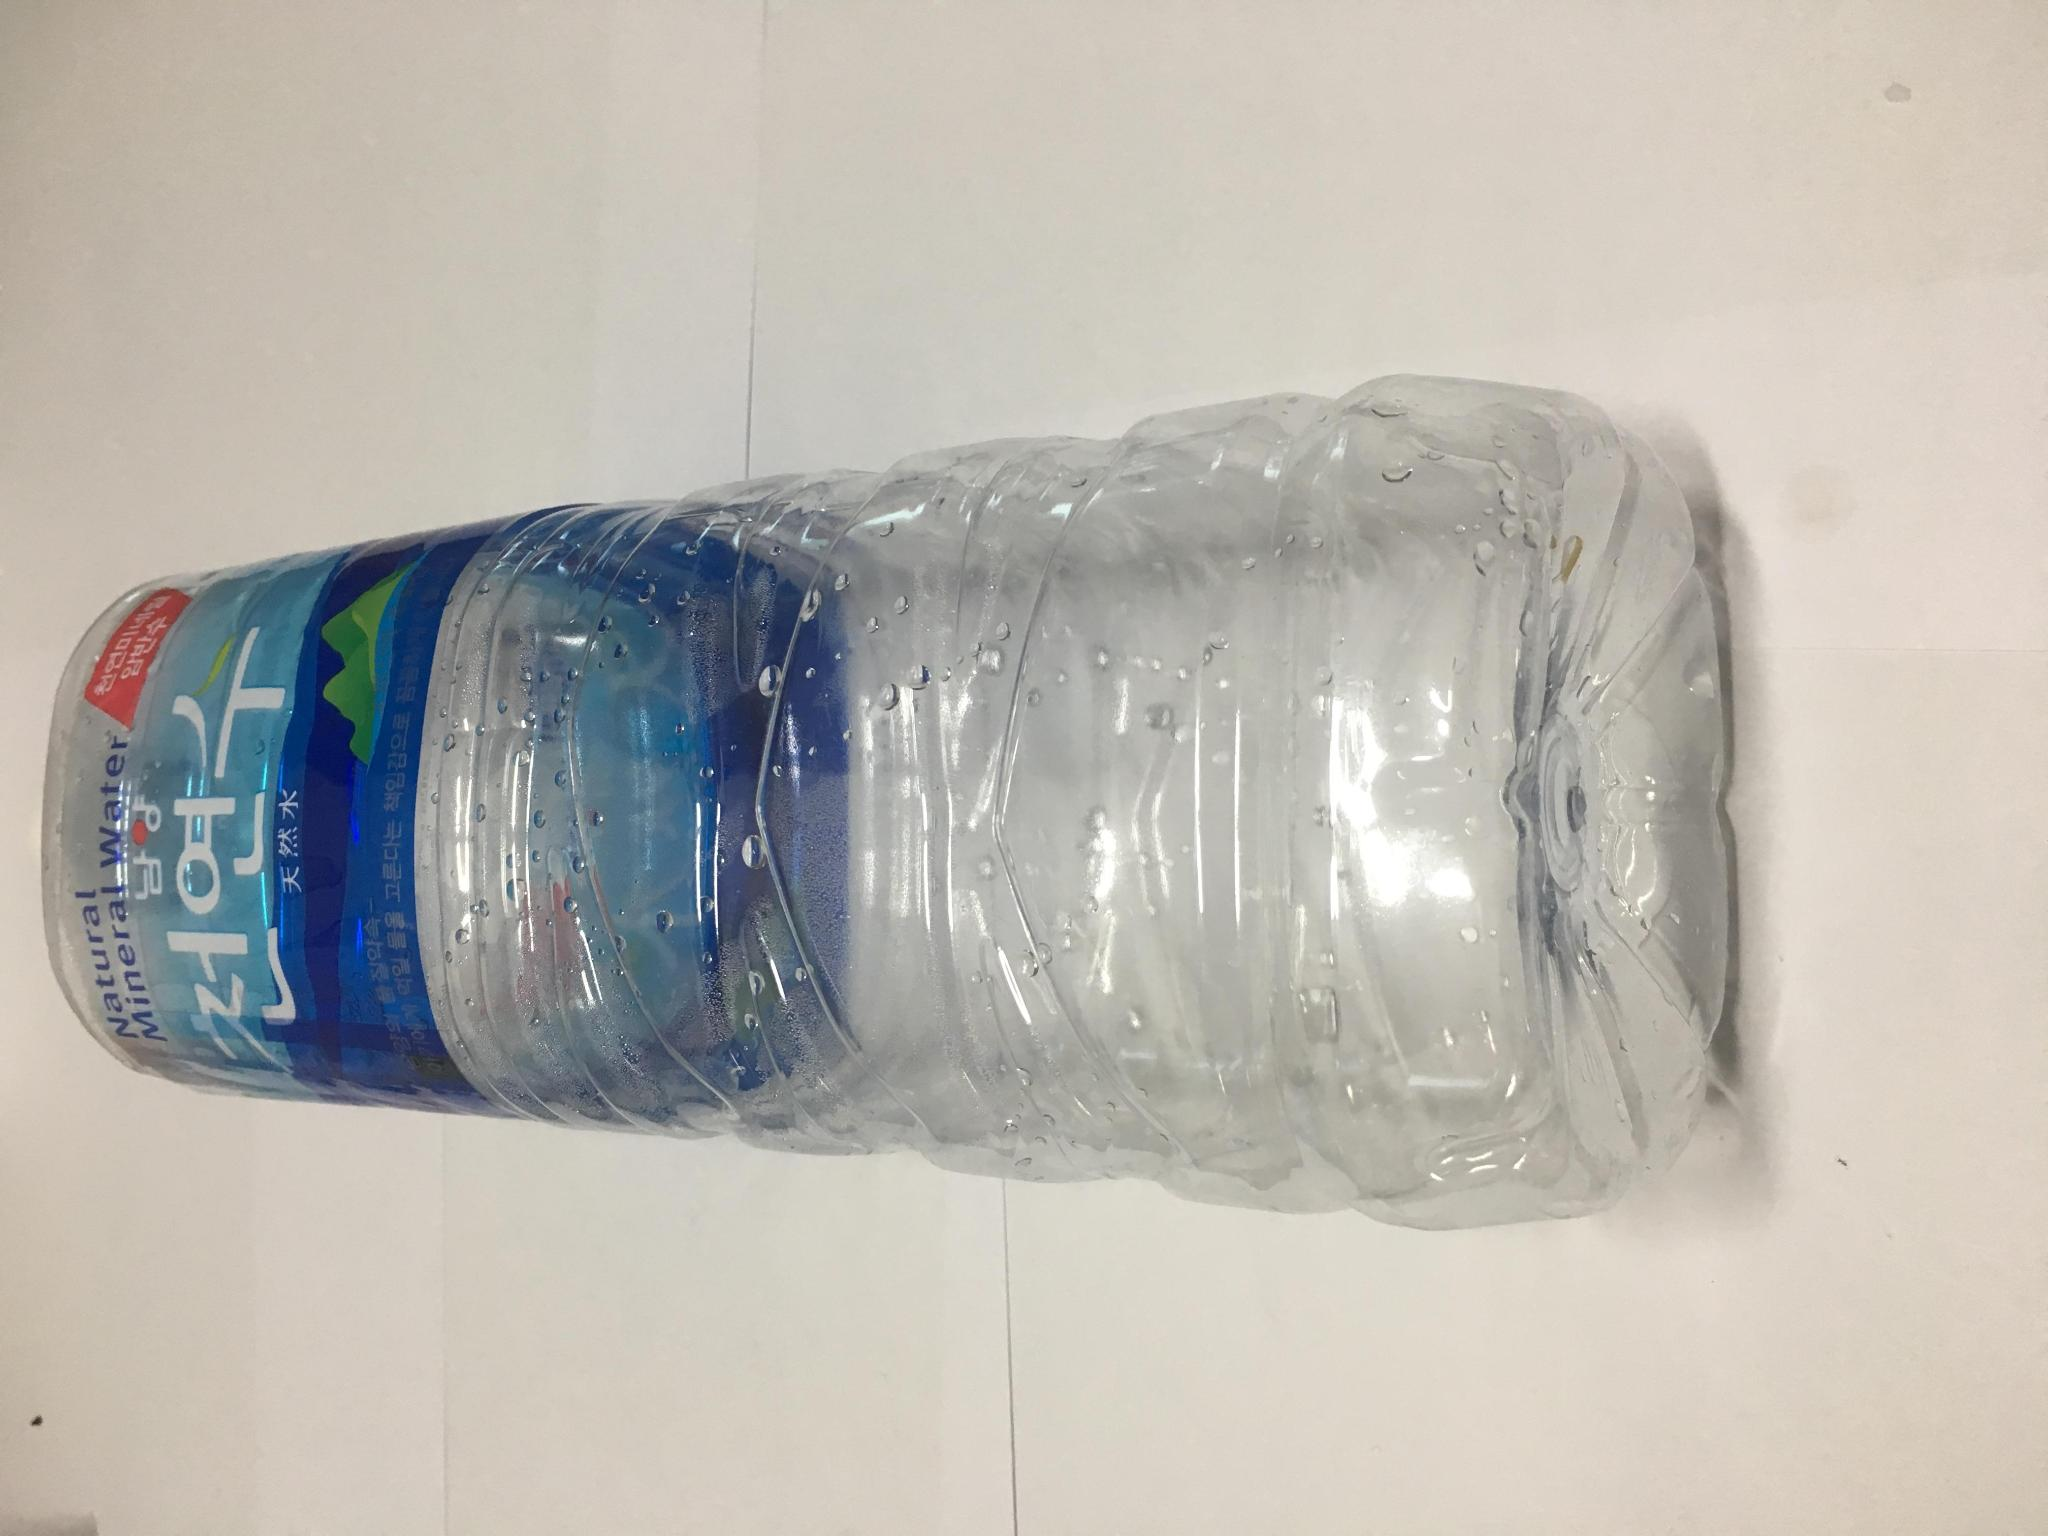bottle: (47, 374, 1755, 1225)
